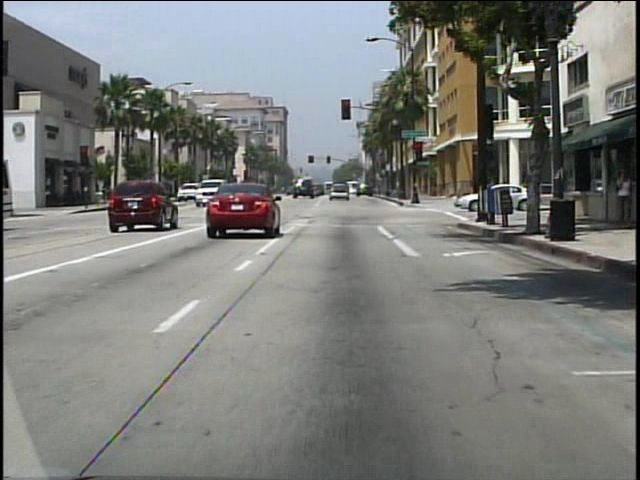person: (610, 166, 632, 228)
